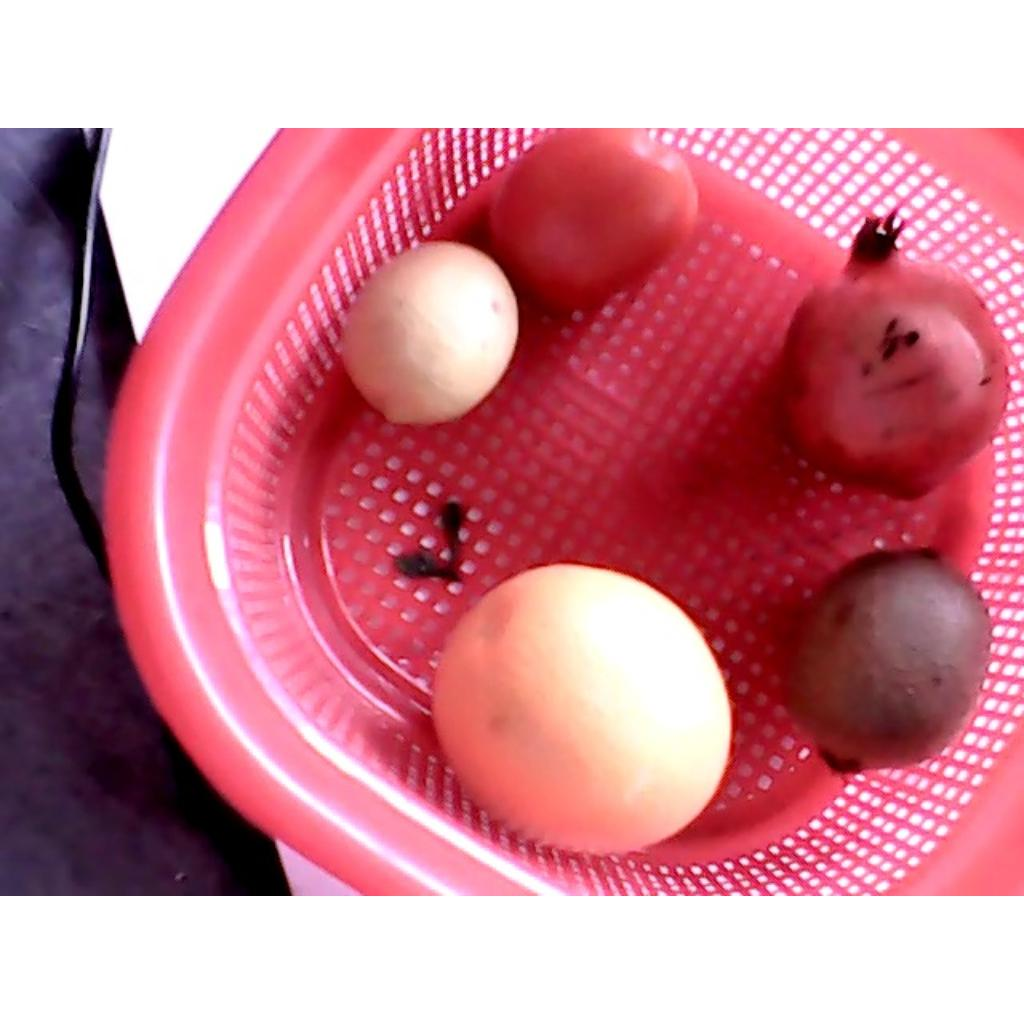kiwi: (783, 546, 992, 777)
lemon: (342, 240, 520, 426)
orange: (432, 563, 730, 858)
pomegranate: (777, 207, 1009, 504)
tomato: (489, 128, 698, 308)
